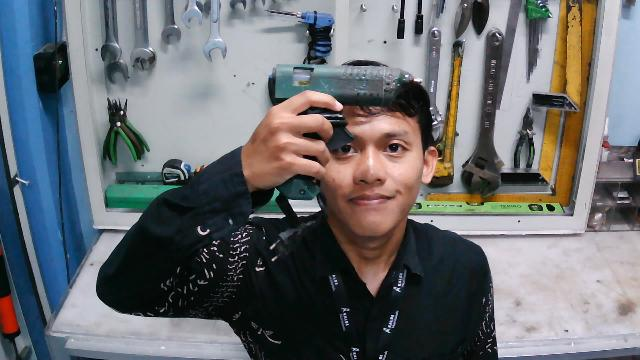gun_lem: (259, 60, 426, 170)
